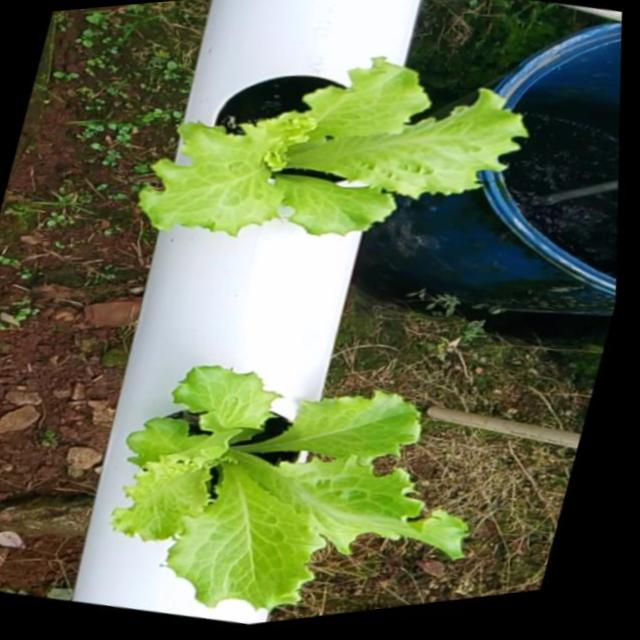Baby: (112, 365, 470, 609), (141, 51, 531, 230)
